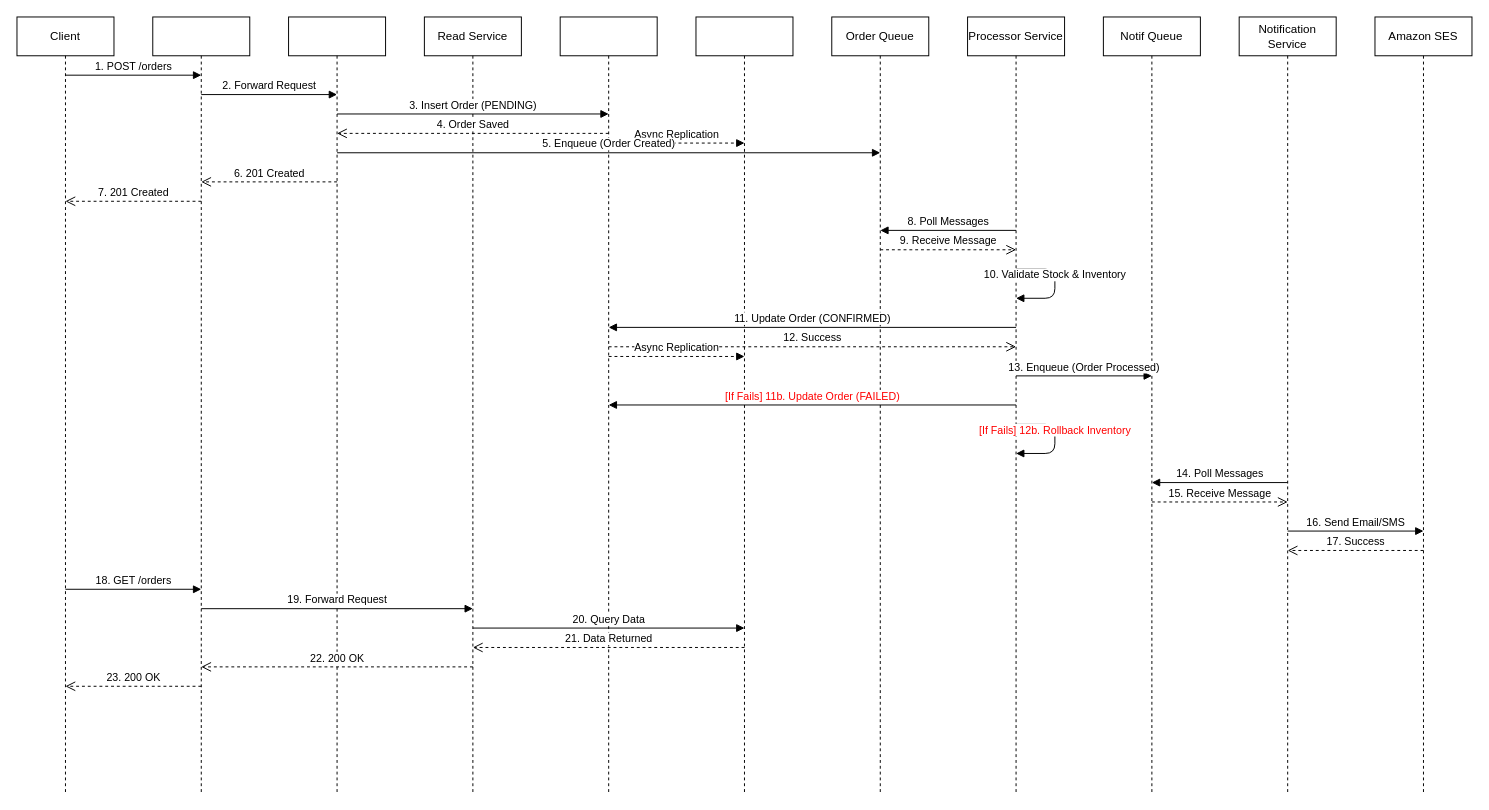
Some shapes in this 1489 by 810 pixel diagram are drawn without their labels. Here are the shapes that lost their labels. From the top down, the box of each, then its label:
(152, 16, 250, 793): API Gateway & ALB
(288, 16, 386, 793): Write Service
(559, 16, 657, 793): Amazon RDS (Write)
(695, 16, 793, 793): Amazon RDS (Read)
